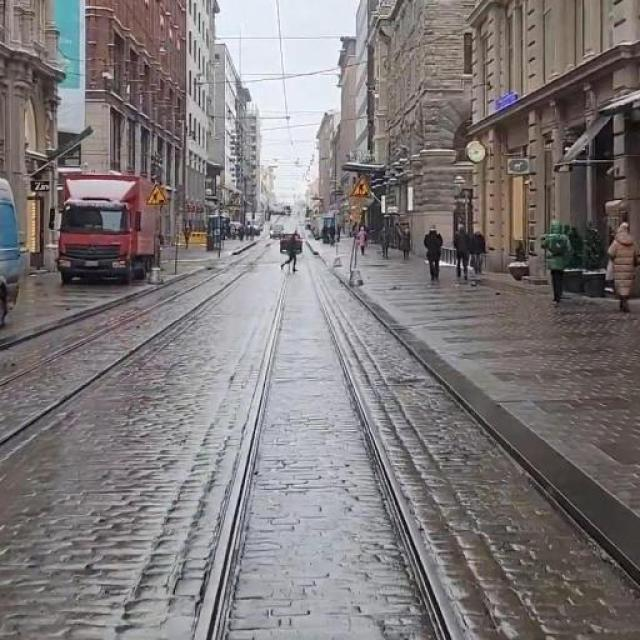people: (601, 216, 640, 307), (537, 218, 573, 298), (423, 214, 448, 283), (448, 220, 476, 281), (279, 227, 302, 277)
vehicle: (49, 164, 168, 284)
